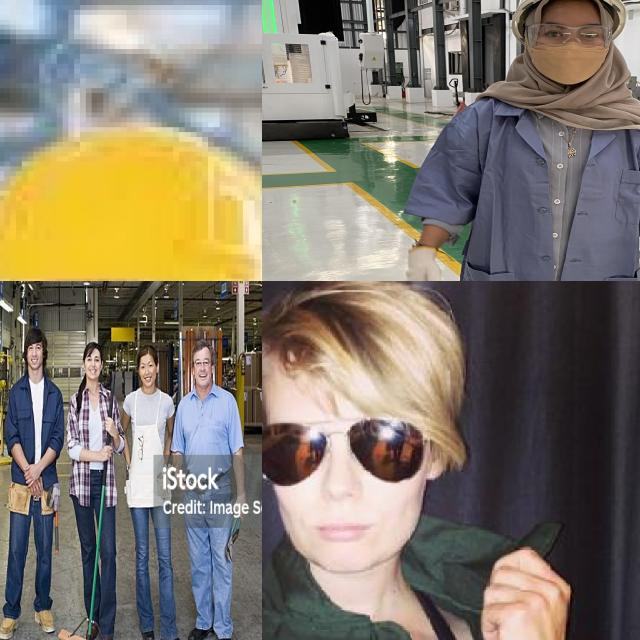boots: (35, 608, 59, 632), (1, 611, 18, 640), (141, 627, 156, 640)
face_mask: (522, 20, 612, 85)
face_nomask: (263, 413, 410, 548)
glasses: (262, 411, 446, 485), (523, 20, 618, 48)
hand_glove: (391, 247, 448, 281)
hand_noglove: (471, 540, 578, 640)
head_helmet: (0, 122, 262, 281), (505, 0, 636, 26)
head_nohelmet: (262, 281, 456, 394)
person: (262, 281, 633, 640), (394, 0, 640, 281), (172, 342, 247, 640), (4, 332, 67, 640), (120, 343, 182, 640), (61, 342, 117, 640)
